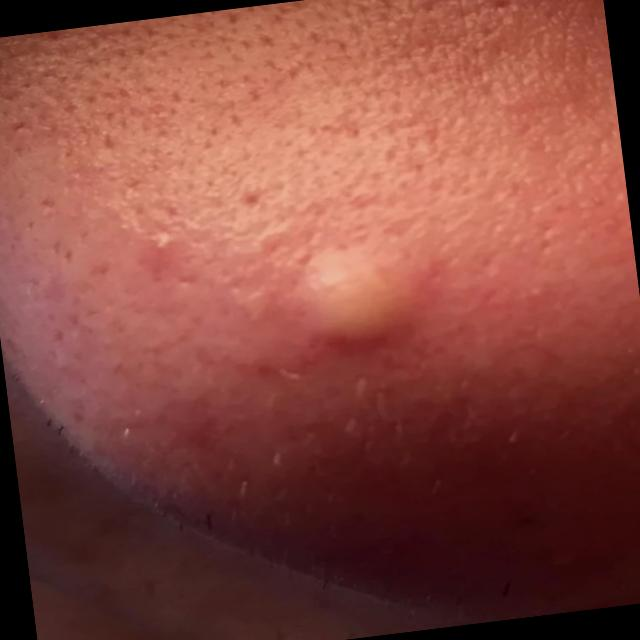nodule: (284, 233, 434, 349)
